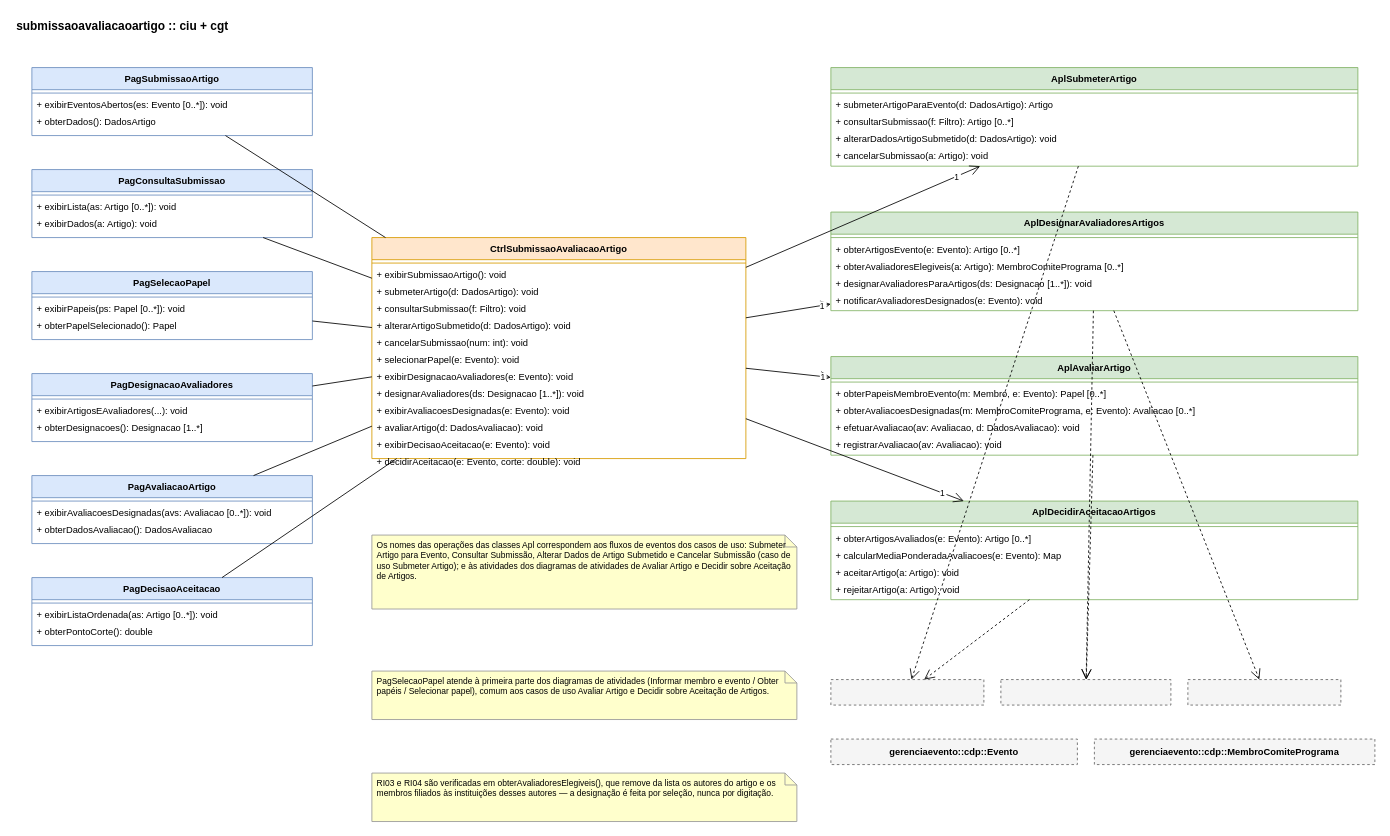
Image size: 1390x836. Some labels were removed from this diagram. The shapes that lost their labels are listed below. From the top down, each one's centre as x and y in pixels, then its label:
At (x=907, y=692): "cdp::Artigo".
At (x=1085, y=692): "cdp::Avaliacao".
At (x=1264, y=692): "cdp::Autor".
